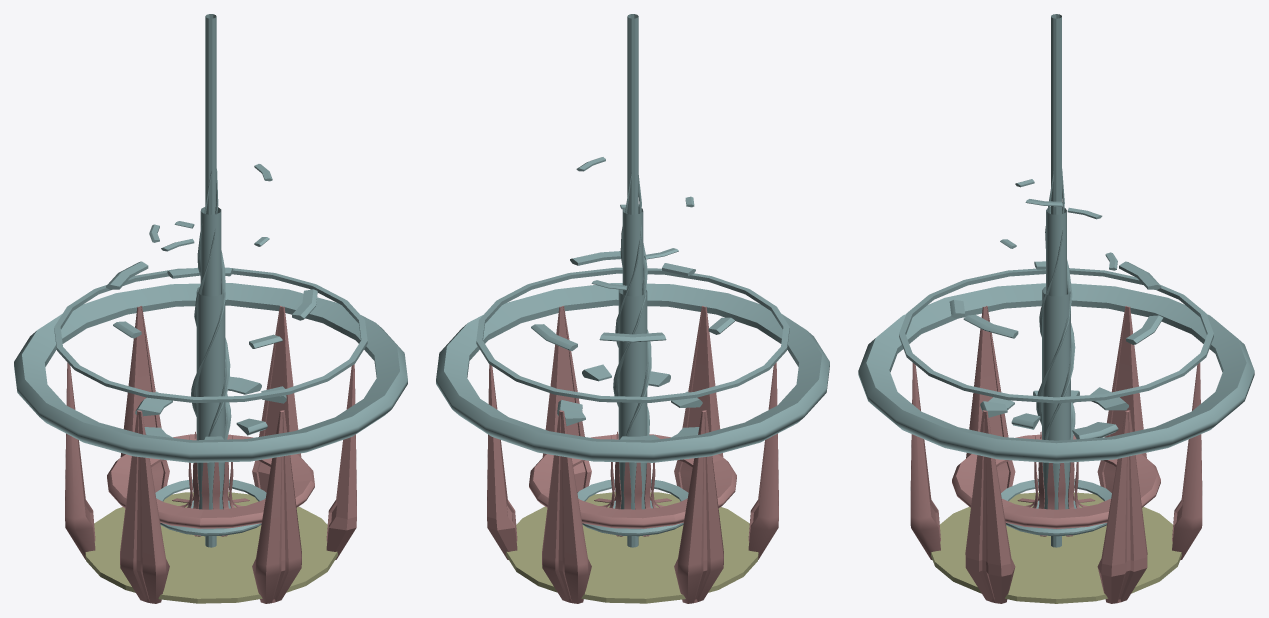
Rendered from 07-main base05.fbx.
3 renders of one model, left to right at view 1: azimuth 30°, elevation 25°; view 2: azimuth 150°, elevation 25°; view 3: azimuth 270°, elevation 25°, orthographic.
Visible parts, largest first — view 1: _outside_crcele, polySurface85, _building17, _building16, _top_circle, _laser_light, _building19, _building15, _building18, _building20, _laser_light5, _floating_platforms1 (+9 smaller); view 2: _outside_crcele, polySurface85, _building20, _building15, _top_circle, _laser_light, _building17, _building16, _building19, _laser_light5, _building18, _floating_platforms1 (+9 smaller); view 3: _outside_crcele, polySurface85, _building19, _building18, _top_circle, _laser_light, _building20, _building17, _building15, _building16, _laser_light5, _first_circle4 (+9 smaller).
Part boxes in pixels (x1,y1,x2,y2): _outside_crcele: (14,283,407,462); polySurface85: (85,492,337,603); _building17: (252,410,301,603); _building16: (120,410,169,603); _top_circle: (54,267,367,402); _laser_light: (196,287,225,509); _building19: (252,306,301,492); _building15: (65,362,95,559); _building18: (326,364,356,559); _building20: (120,306,169,492); _laser_light5: (205,14,216,547); _floating_platforms1: (106,261,317,348); _outside_crcele: (436,283,829,462); polySurface85: (506,492,758,603); _building20: (542,410,591,603); _building15: (674,410,723,603); _top_circle: (476,267,789,402); _laser_light: (618,289,647,509); _building17: (674,306,723,492); _building16: (748,362,778,559); _building19: (487,364,517,559); _laser_light5: (627,14,638,547); _building18: (542,306,591,492); _floating_platforms1: (531,251,734,350); _outside_crcele: (858,283,1254,463); polySurface85: (931,492,1181,603); _building19: (1097,410,1147,603); _building18: (965,410,1015,603); _top_circle: (899,268,1213,403); _laser_light: (1042,286,1070,509); _building20: (1172,363,1202,560); _building17: (910,363,940,560); _building15: (1097,306,1146,492); _building16: (966,306,1015,492); _laser_light5: (1051,14,1061,547); _first_circle4: (1003,498,1110,528).
Bounding box in the file's own units: 6715 × 10112 × 6715.
